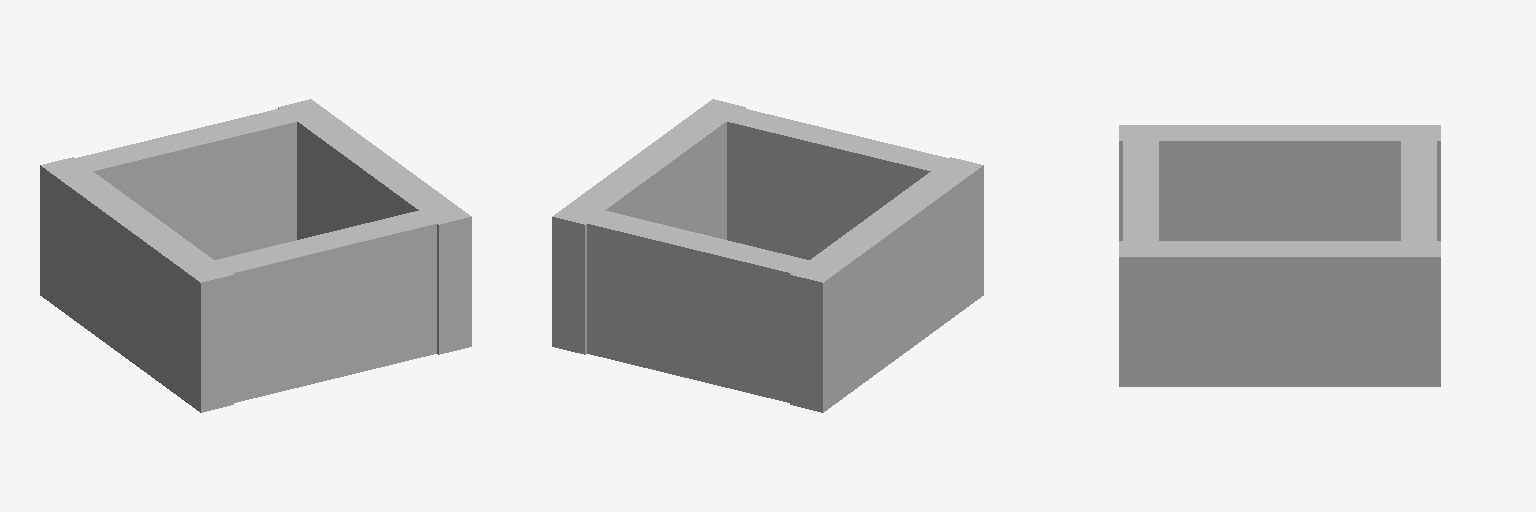
The model's file is walls.obj.
3 renders of one model, left to right at view 1: azimuth 30°, elevation 25°; view 2: azimuth 150°, elevation 25°; view 3: azimuth 270°, elevation 25°, orthographic.
Visible parts, largest first — view 1: Cube.001_Cube.002, Cube.004_Cube.005, Cube.002_Cube.003, Cube.003_Cube.004; view 2: Cube.002_Cube.003, Cube.004_Cube.005, Cube.001_Cube.002, Cube.003_Cube.004; view 3: Cube.003_Cube.004, Cube.004_Cube.005, Cube.001_Cube.002, Cube.002_Cube.003.
Boxes of the visible parts, x1,y1,x2,y2 form: Cube.001_Cube.002: [199, 208, 444, 402]; Cube.004_Cube.005: [40, 157, 233, 412]; Cube.002_Cube.003: [60, 106, 305, 259]; Cube.003_Cube.004: [278, 99, 471, 354]; Cube.002_Cube.003: [579, 209, 824, 402]; Cube.004_Cube.005: [790, 157, 983, 412]; Cube.001_Cube.002: [721, 106, 957, 259]; Cube.003_Cube.004: [552, 99, 745, 354]; Cube.003_Cube.004: [1119, 241, 1440, 386]; Cube.004_Cube.005: [1119, 125, 1440, 240]; Cube.001_Cube.002: [1123, 133, 1158, 244]; Cube.002_Cube.003: [1401, 133, 1436, 244].
Size of the model in its own units: 9.44 by 4.33 by 9.69.